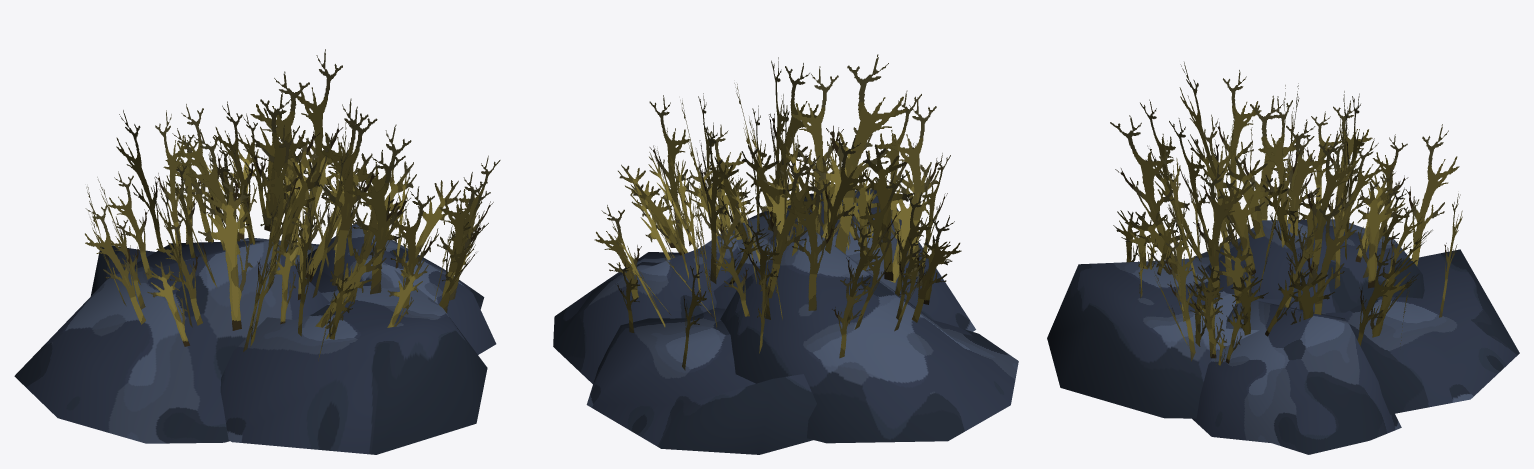
File: Rice Coral 2_preview_3DS_simplified.glb
3 views of the same model, side by side, from view 1: azimuth 30°, elevation 25°; view 2: azimuth 150°, elevation 25°; view 3: azimuth 270°, elevation 25° (orthographic). The views are drawn at different scales.
Visible parts, largest first — view 1: Marine Park Empire model; view 2: Marine Park Empire model; view 3: Marine Park Empire model.
Boxes of the visible parts, x1,y1,x2,y2 form: Marine Park Empire model: [14, 49, 500, 454]; Marine Park Empire model: [553, 54, 1018, 454]; Marine Park Empire model: [1047, 62, 1519, 454].
Size of the model in its own units: 69.81 by 49.25 by 67.38.
2 materials, 2 textured.
